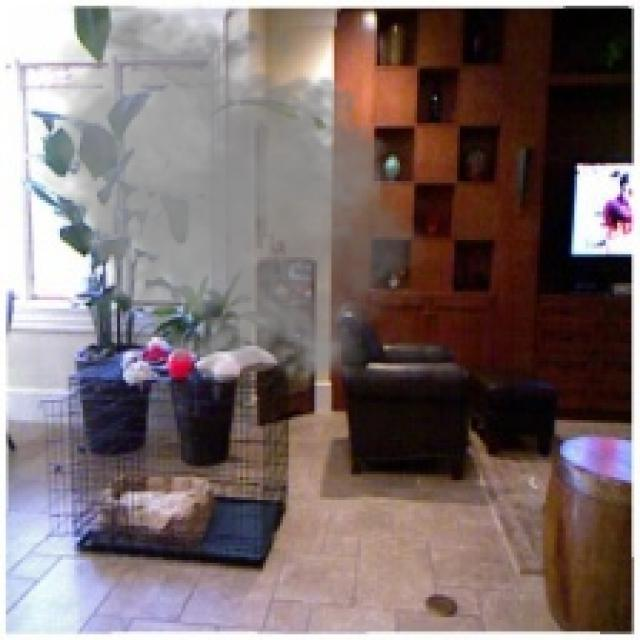smoke: (34, 0, 440, 392)
